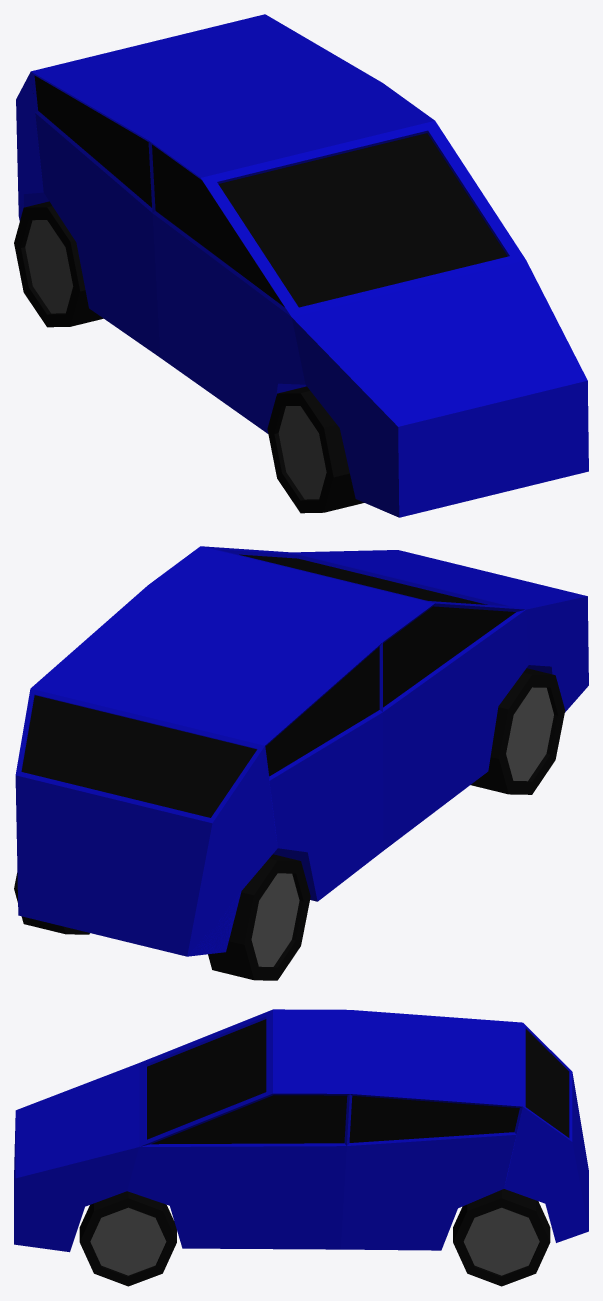
Rendered from Car.fbx.
3 views of the same model, one above another, from view 1: azimuth 30°, elevation 25°; view 2: azimuth 150°, elevation 25°; view 3: azimuth 270°, elevation 25° (orthographic). The views are drawn at different scales.
Parts seen in each view (by area): view 1: Cube, Cylinder.000, Cylinder.002; view 2: Cube, Cylinder.002, Cylinder.000; view 3: Cube, Cylinder.001, Cylinder.003.
Part boxes in pixels (x1,y1,x2,y2): Cube: (16, 14, 588, 517); Cylinder.000: (267, 386, 364, 513); Cylinder.002: (14, 201, 103, 327); Cube: (15, 546, 588, 956); Cylinder.002: (208, 854, 310, 980); Cylinder.000: (471, 668, 565, 794); Cube: (14, 1009, 588, 1252); Cylinder.001: (453, 1189, 550, 1286); Cylinder.003: (79, 1191, 176, 1286).
Size of the model in its own units: 134 by 144 by 386.
